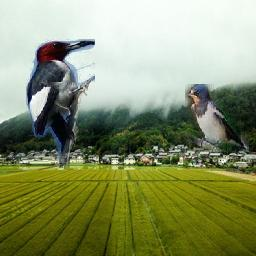Swallow: (185, 84, 249, 152)
Woodpecker: (27, 40, 96, 169)
